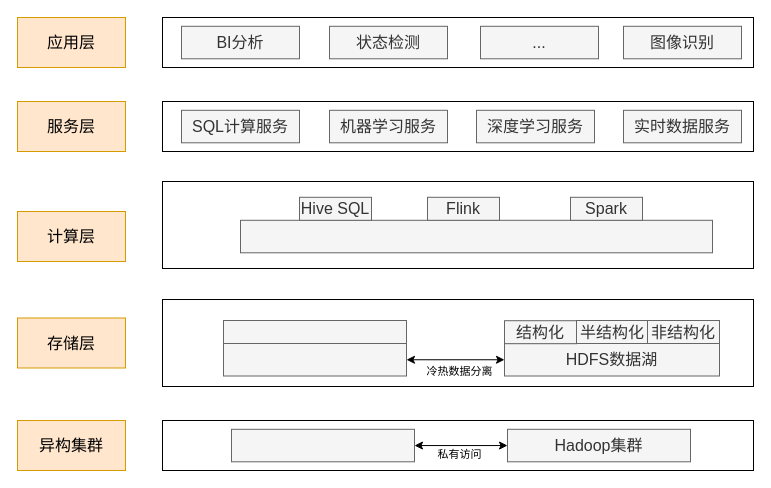
This 771x488 diagram has some shape labels left out. Here are the shapes that lost their labels. From the top down, the centre of each, then its label:
At point 476,236: "元数据管理".
At point 314,332: "cache".
At point 314,359: "内置缓存".
At point 322,445: "数仓集群".
